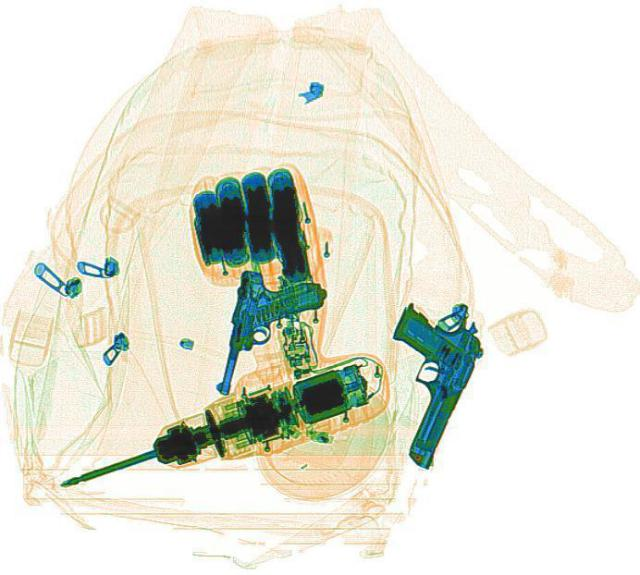Gun: (340, 289, 498, 470), (210, 266, 328, 403)
